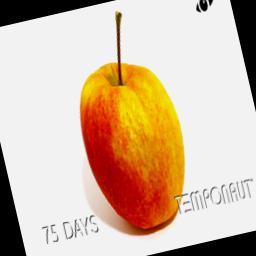Apple Ripe: (53, 0, 202, 239)
